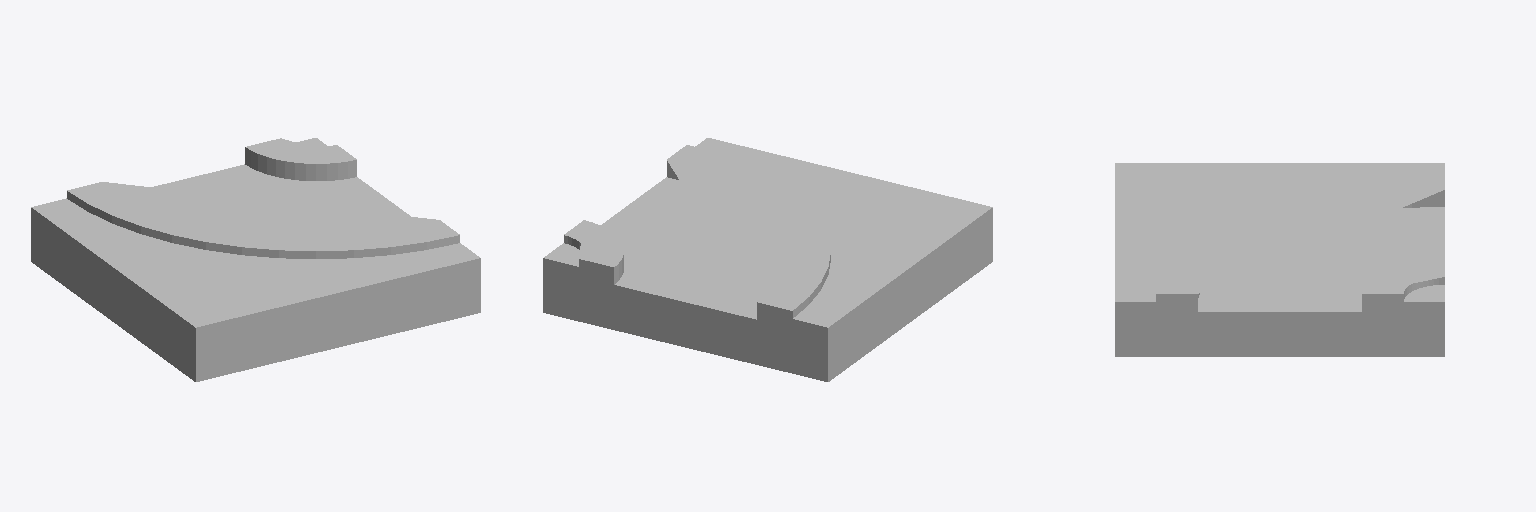
File: roadTile_235.obj
3 renders of one model, left to right at view 1: azimuth 30°, elevation 25°; view 2: azimuth 150°, elevation 25°; view 3: azimuth 270°, elevation 25°, orthographic.
Visible parts, largest first — view 1: Mesh1 Group1 Model; view 2: Mesh1 Group1 Model; view 3: Mesh1 Group1 Model.
Part boxes in pixels (left/top/right/bottom): Mesh1 Group1 Model: left=31, top=138, right=480, bottom=381; Mesh1 Group1 Model: left=543, top=138, right=992, bottom=381; Mesh1 Group1 Model: left=1115, top=163, right=1444, bottom=356.
Size of the model in its own units: 3 by 0.63 by 3.